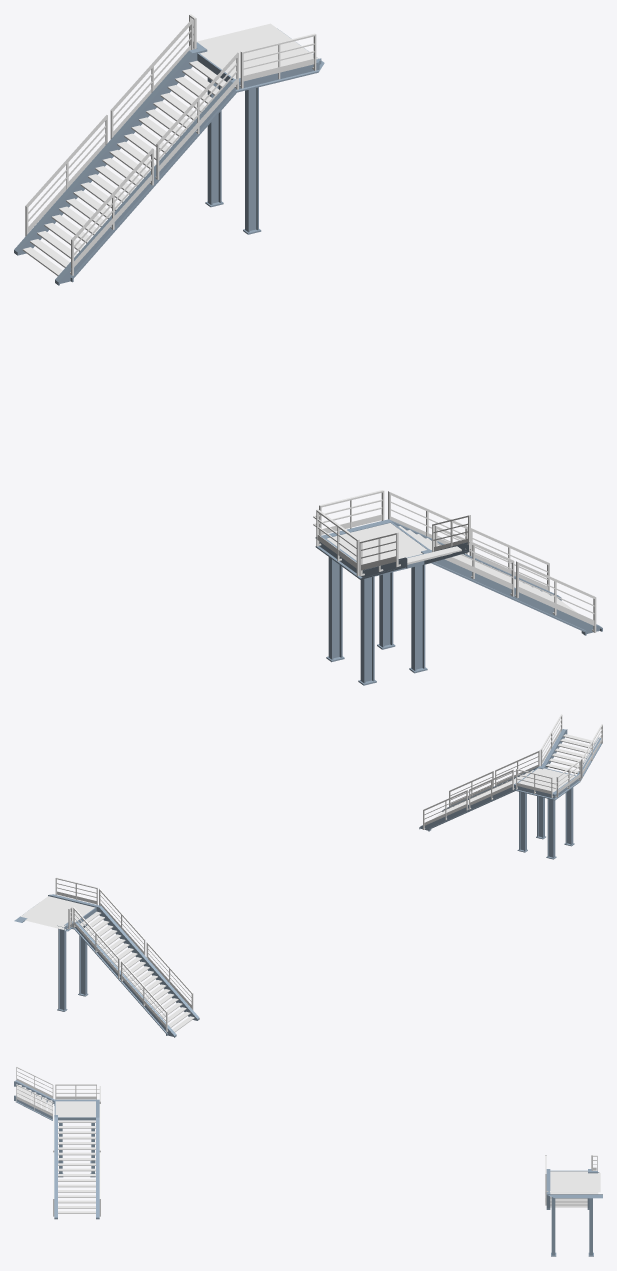
The model's file is SM_H_Building_Tide_Canteen_05_ATLAS.fbx.
3 views of the same model, one above another, from view 1: azimuth 30°, elevation 25°; view 2: azimuth 150°, elevation 25°; view 3: azimuth 270°, elevation 25° (orthographic). The views are drawn at different scales.
Visible parts, largest first — view 1: SM_H_Building_Tide_Canteen_05_ATLAS; view 2: SM_H_Building_Tide_Canteen_05_ATLAS; view 3: SM_H_Building_Tide_Canteen_05_ATLAS.
Boxes of the visible parts, x1,y1,x2,y2 form: SM_H_Building_Tide_Canteen_05_ATLAS: [14, 14, 602, 685]; SM_H_Building_Tide_Canteen_05_ATLAS: [14, 714, 602, 1037]; SM_H_Building_Tide_Canteen_05_ATLAS: [14, 1066, 602, 1256].
Bounding box in the file's own units: 1577 × 3446 × 614.
